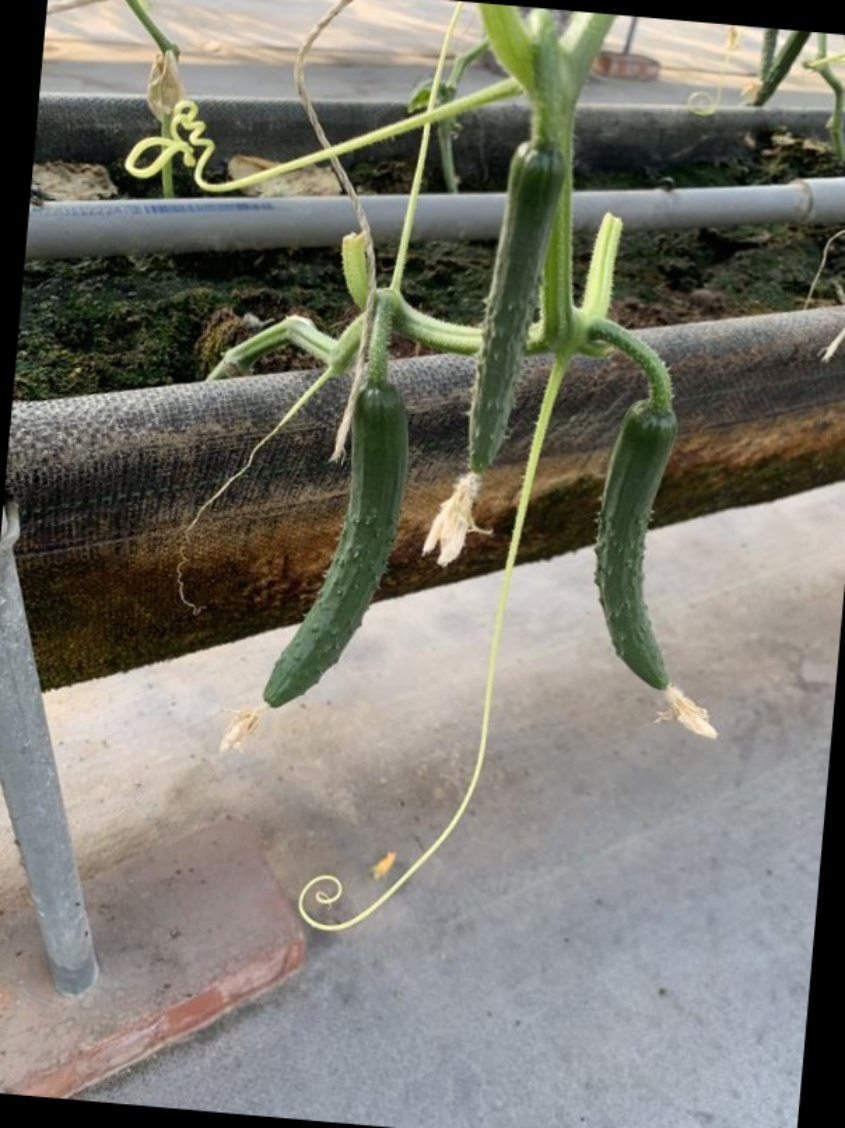growth: (451, 145, 569, 525)
